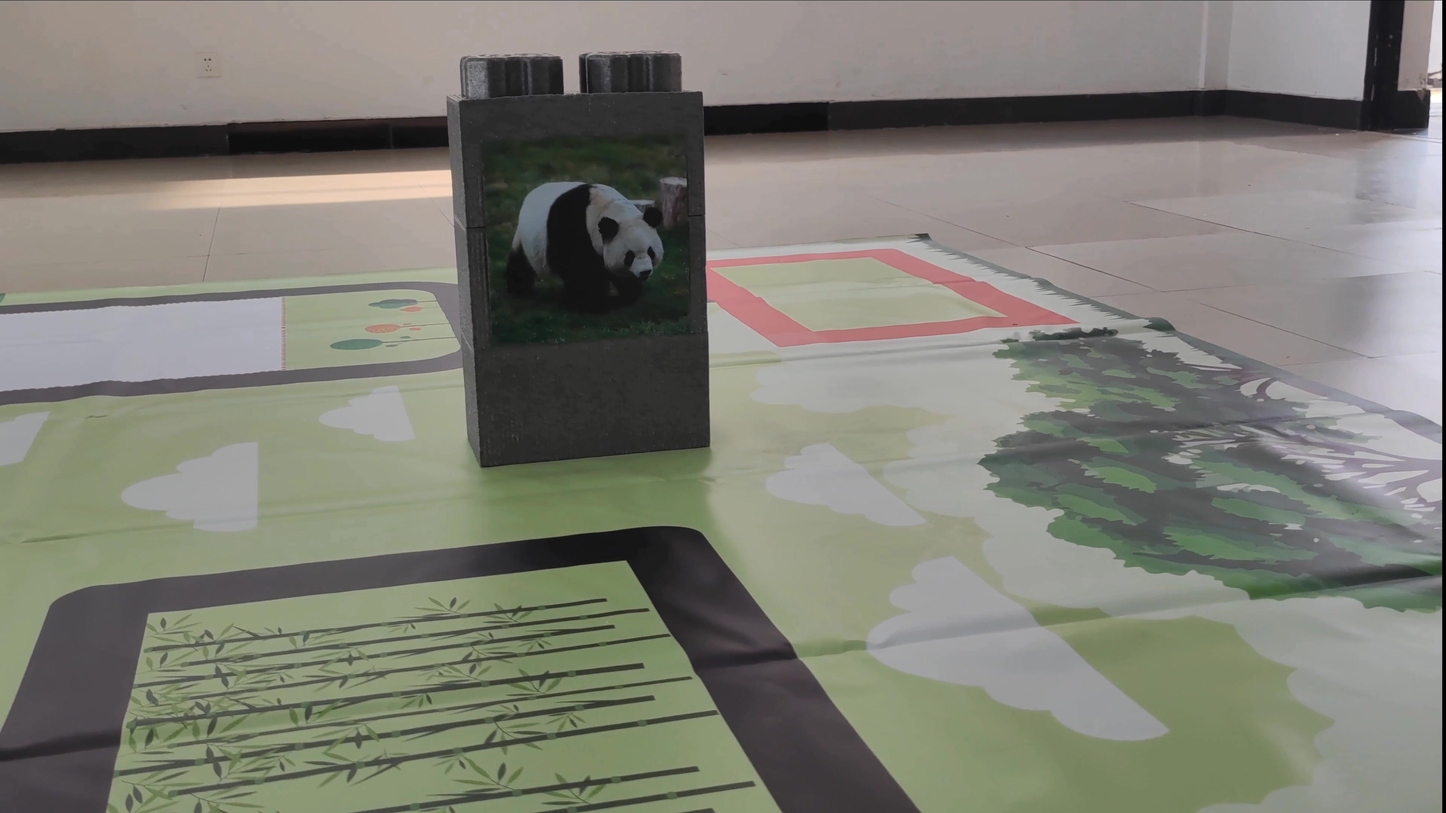panda: (481, 148, 674, 336)
